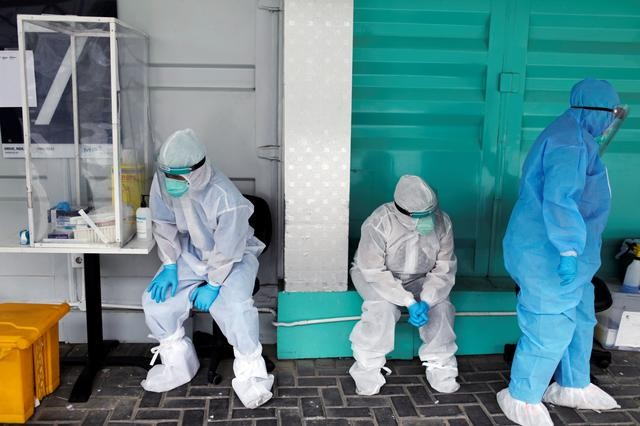Coverall: (500, 69, 621, 397), (138, 125, 275, 408), (350, 173, 457, 392)
Face_Shield: (152, 159, 201, 207), (397, 204, 439, 241), (597, 104, 630, 148)
Gloves: (144, 261, 179, 306), (187, 281, 220, 317), (404, 299, 431, 326), (558, 253, 579, 285)
with_mask: (162, 173, 187, 198), (417, 215, 434, 232)
